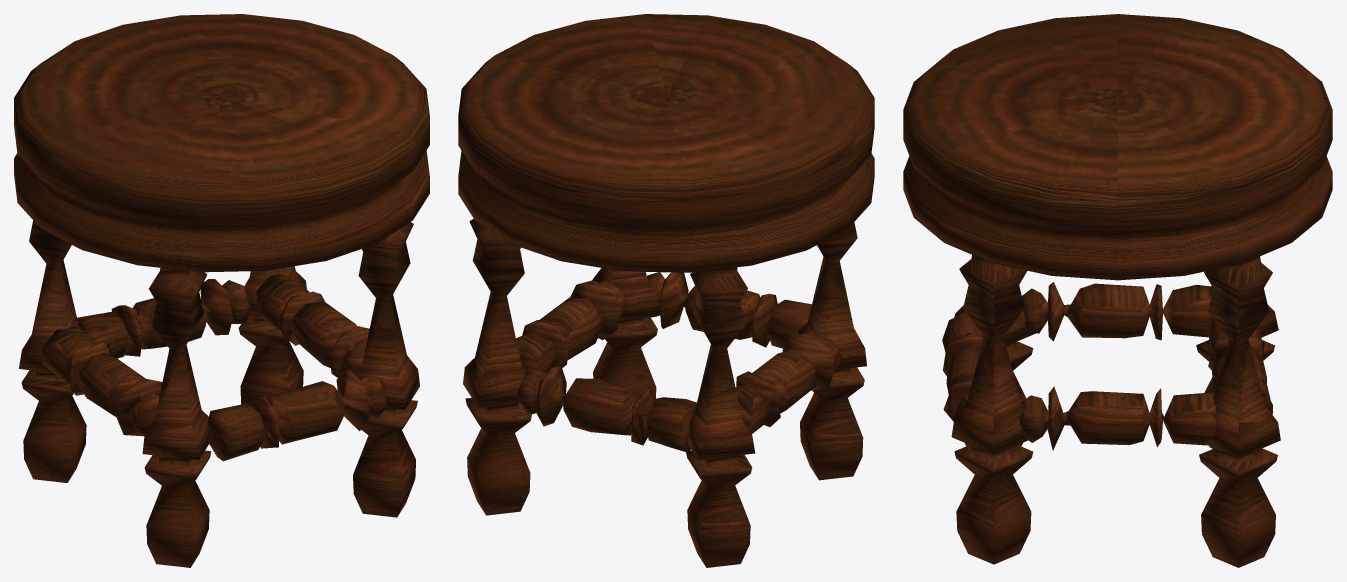
The model's file is StoolOrnateHP.fbx.
3 renders of one model, left to right at view 1: azimuth 30°, elevation 25°; view 2: azimuth 150°, elevation 25°; view 3: azimuth 270°, elevation 25°, orthographic. The views are drawn at different scales.
Visible parts, largest first — view 1: Stool; view 2: Stool; view 3: Stool.
Boxes of the visible parts, bbox=[...] form: Stool: bbox=[14, 14, 429, 567]; Stool: bbox=[458, 14, 874, 567]; Stool: bbox=[903, 14, 1332, 567].
Size of the model in its own units: 62.7 by 65.72 by 62.7.
